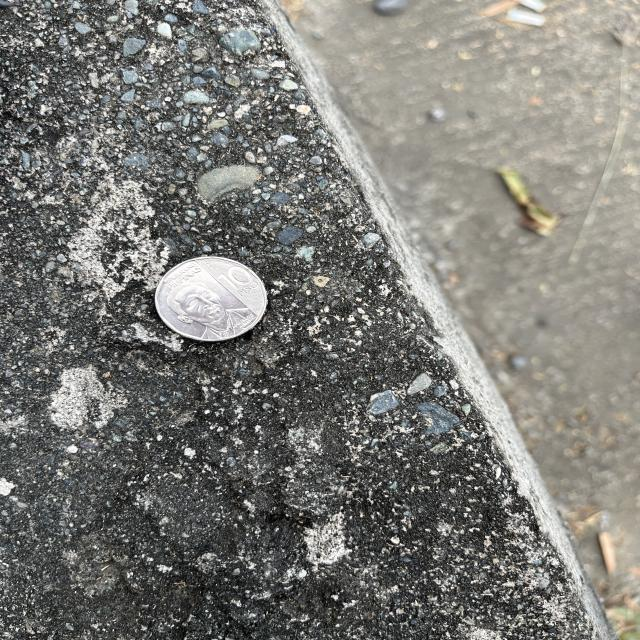10_New_Front: (215, 263, 258, 301)
